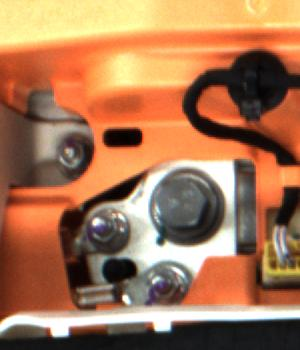nut_b: (148, 166, 225, 239)
screw_s: (138, 266, 204, 310), (72, 211, 128, 250), (45, 134, 95, 177)
